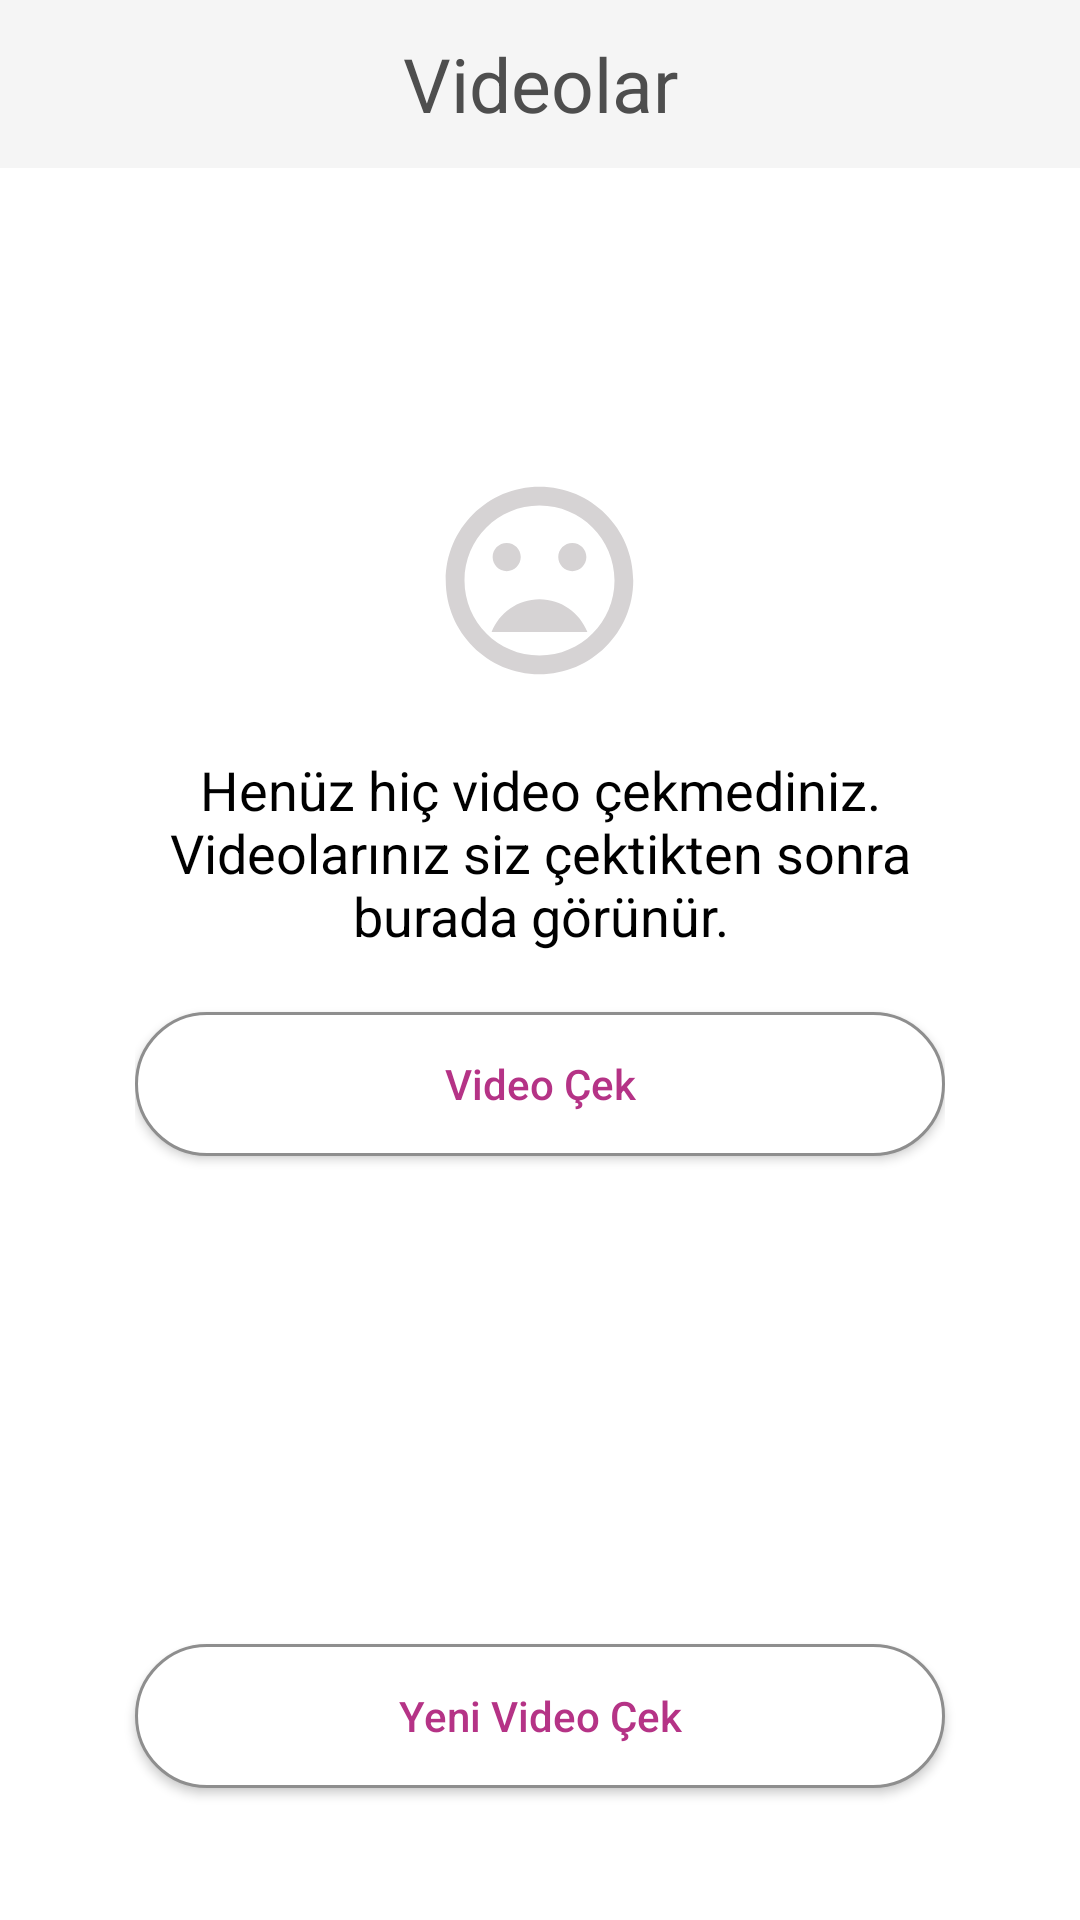

Where icons sit on this 1080×1920 app screen, as (x1, y1, x2, y2):
mood bad: (446, 487, 633, 674)
